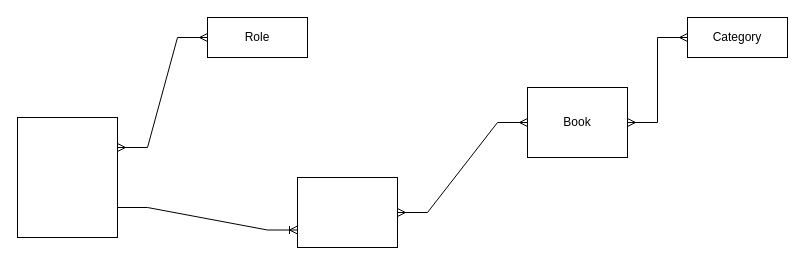
The diagram is 805 pixels wide and 265 high, and some of its shapes have lost their labels. Here are the shapes that lost their labels. From the top down, the centre of each, then its label:
point 67,177: User
point 347,212: Order
